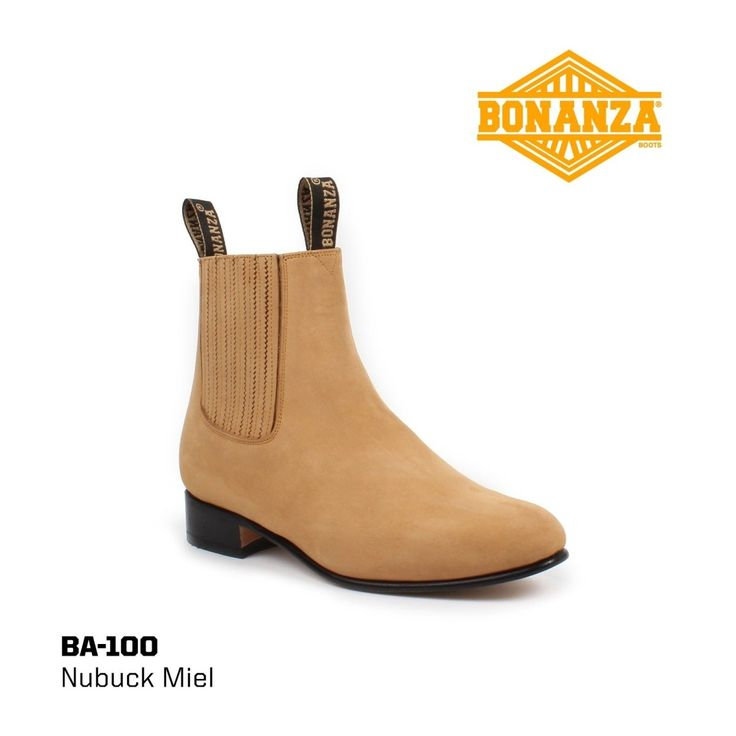gamuza: (180, 247, 566, 580)
